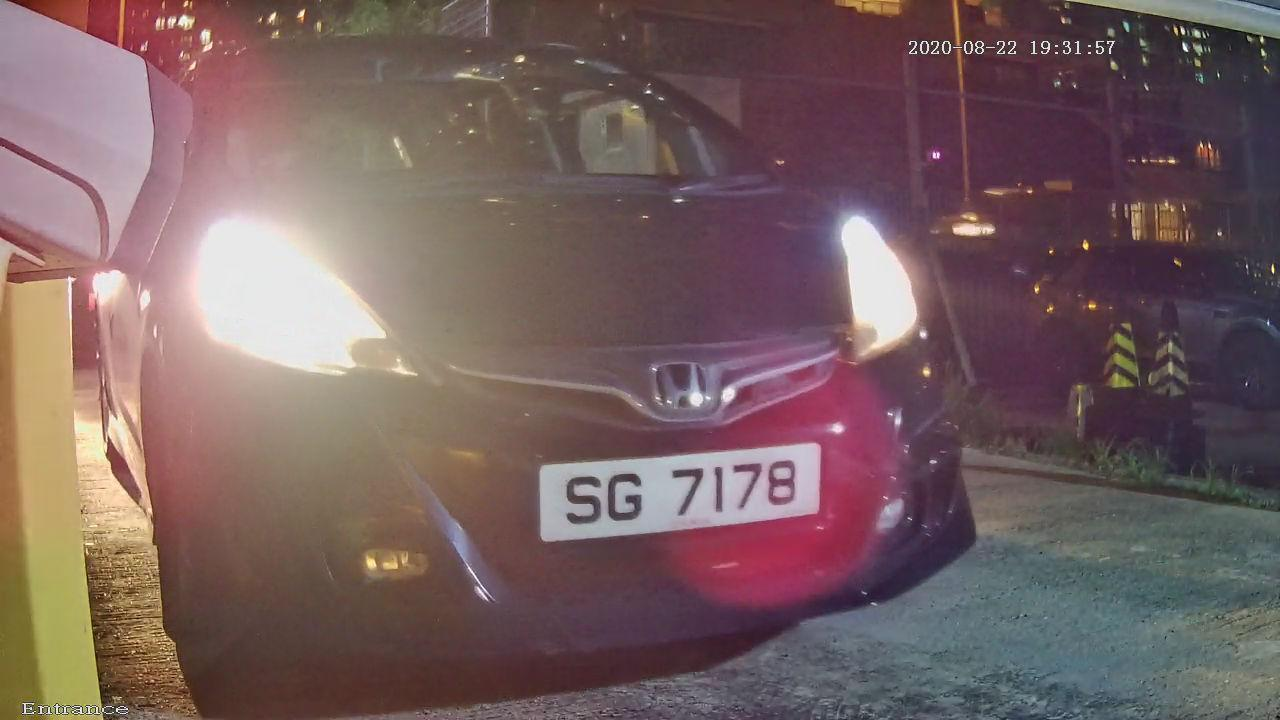Car: (46, 1, 1069, 720)
License Plate: (481, 415, 895, 581)
